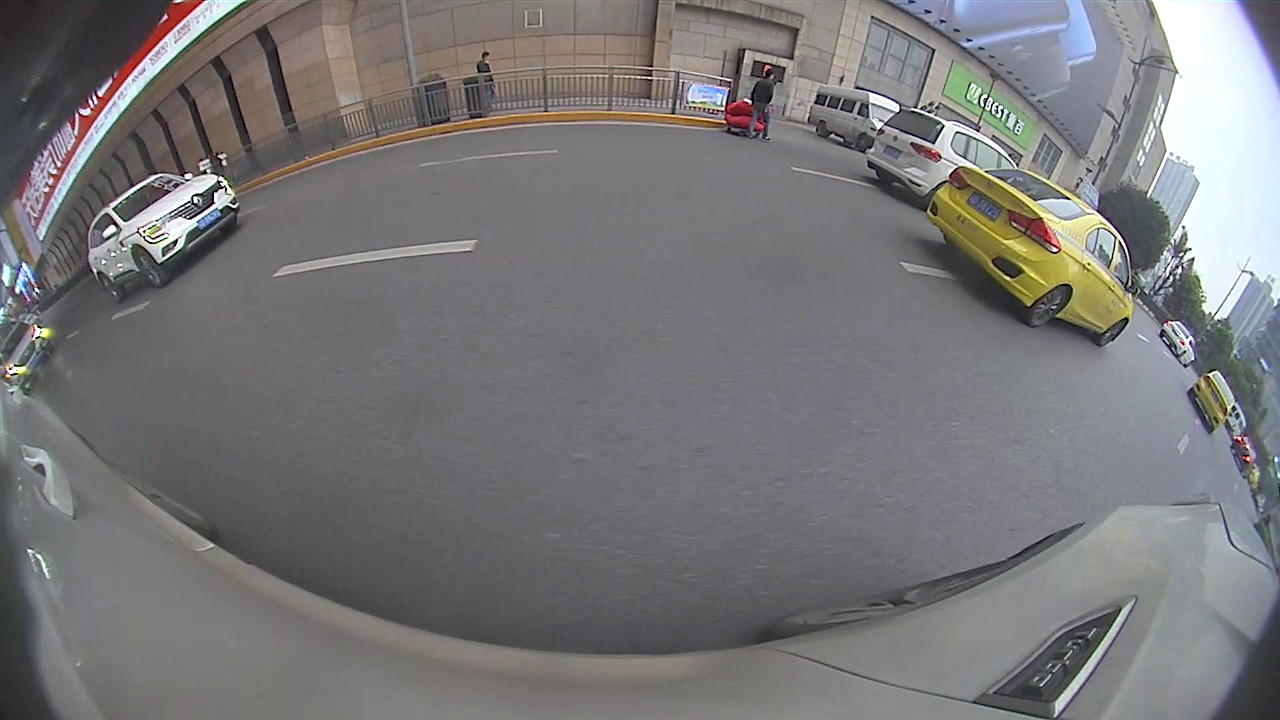car: (924, 164, 1142, 350), (87, 172, 242, 303), (866, 108, 1020, 203), (807, 84, 900, 152), (1, 318, 56, 391), (1186, 371, 1237, 436), (1158, 316, 1198, 366)
front: (133, 245, 164, 289), (1097, 319, 1130, 349), (856, 131, 870, 153)
person: (743, 67, 781, 140)
rear: (1027, 284, 1076, 327), (96, 272, 123, 306), (813, 119, 828, 136)
